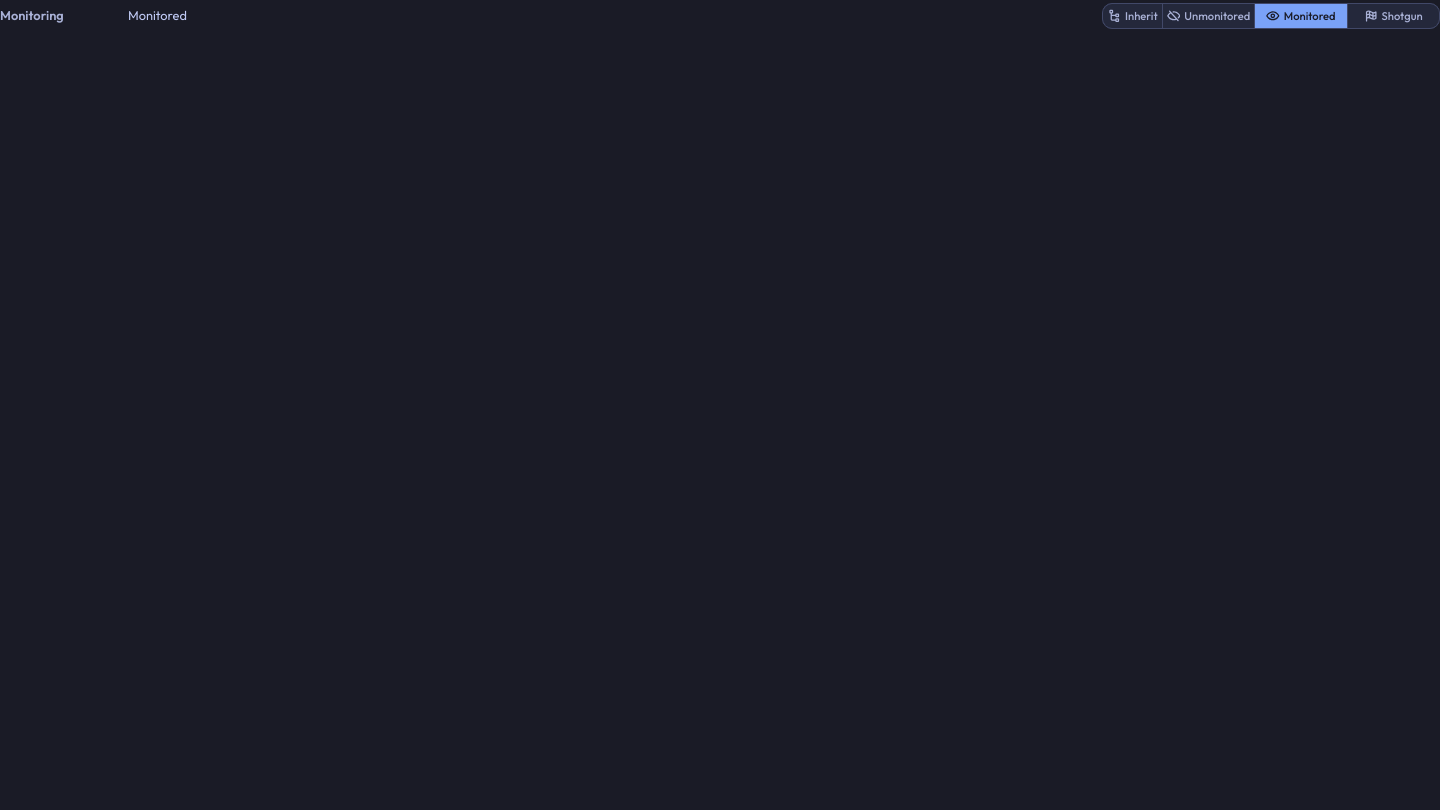
MonitoringControl › ShotgunConfirmation_SaysItAppliesInside_WhenTheItemHasChildren
This screenshot has width=1440, height=810.
Click the radio button with test id "monitoring-control__option-shotgun": (1393, 16) [1348,4,1439,28]
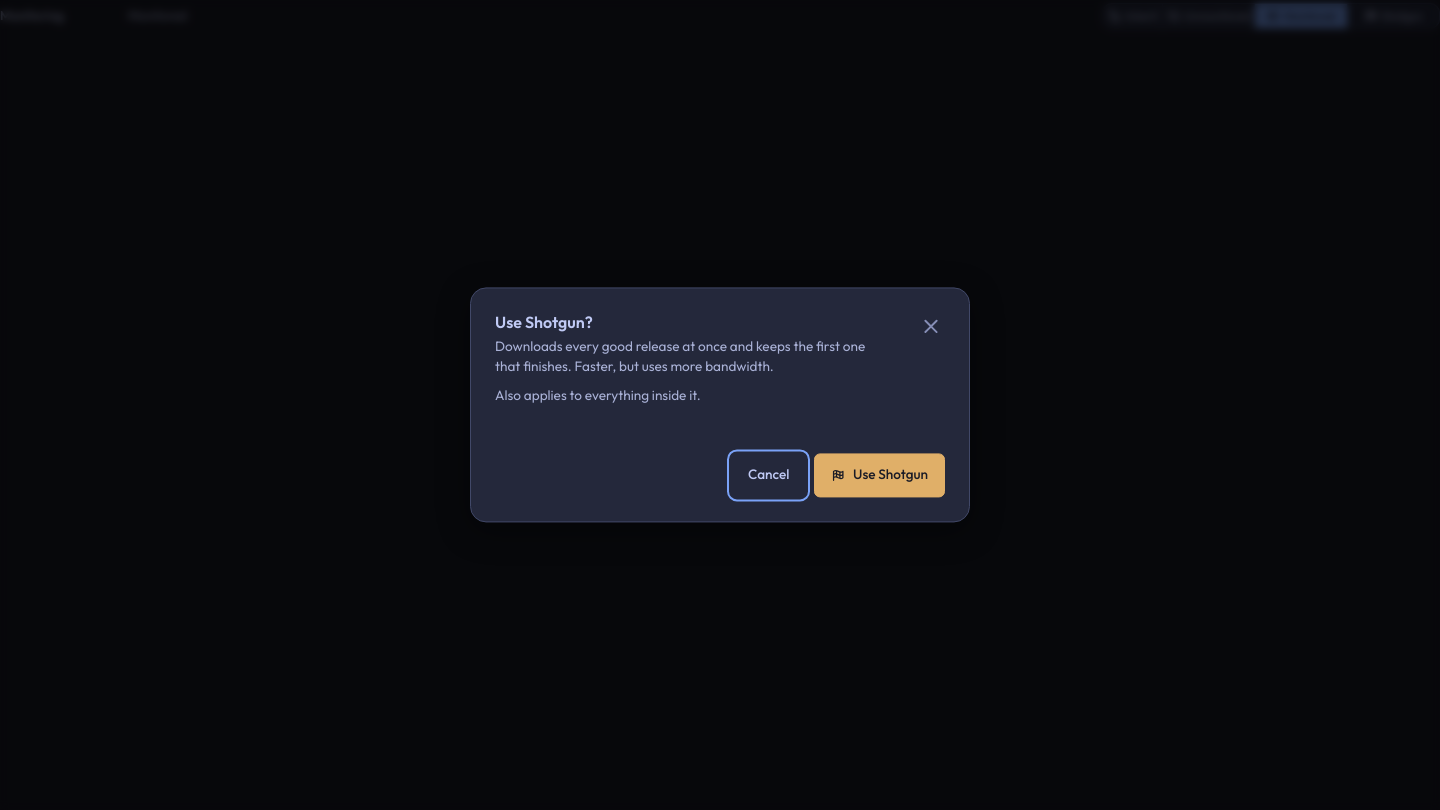
Expected: the text "Also applies to everything inside it." is shown, [495,386,701,404]
